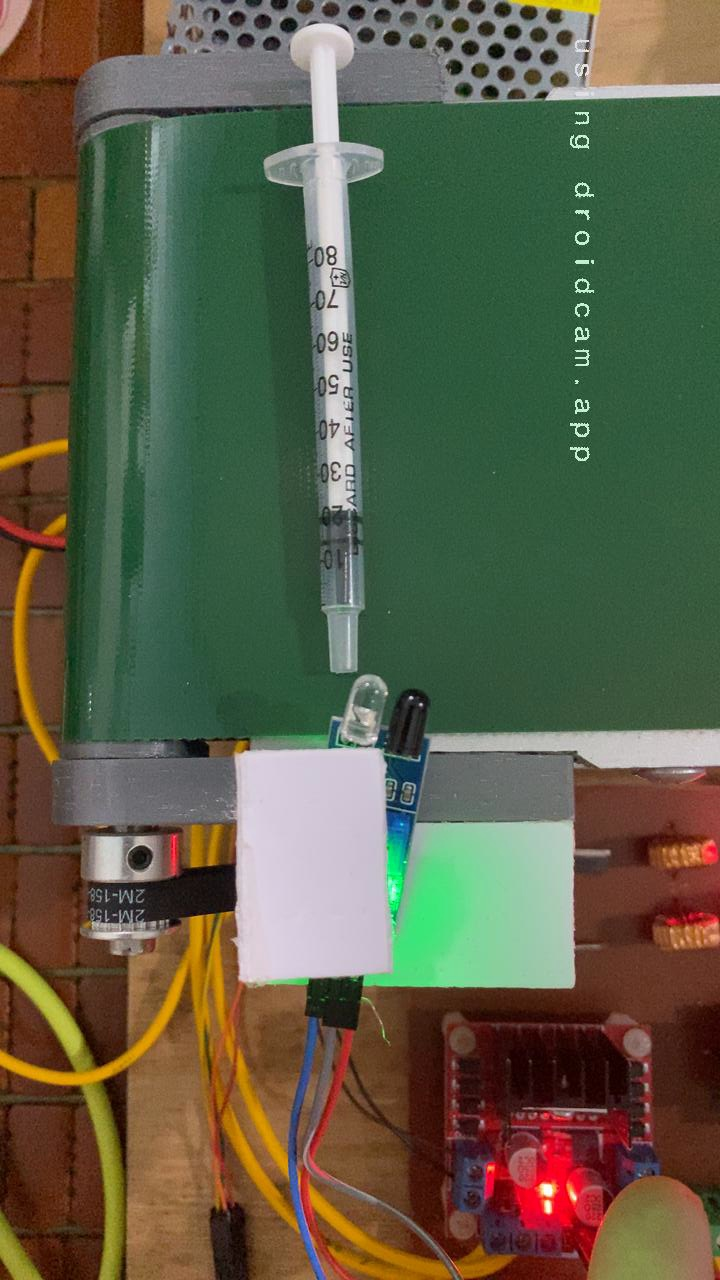syringe: (0, 102, 397, 732)
